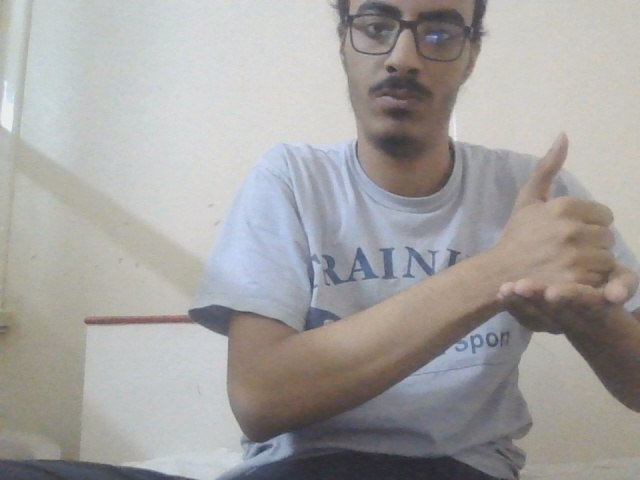Help: (482, 129, 640, 337)
